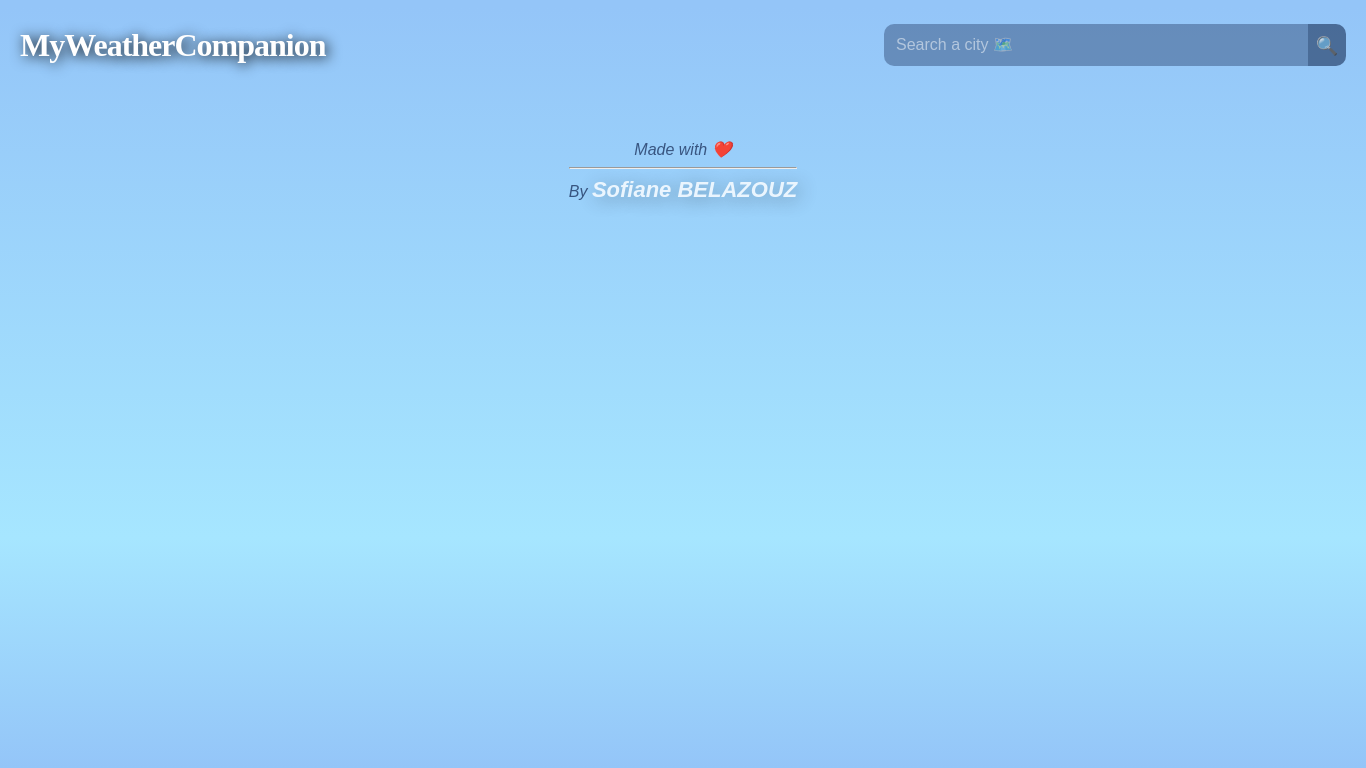
Test: Display Error from App › displays Error component when there is an error
The width and height of the screenshot is (1366, 768).
Type "InvalidCity" into the field with placeholder "Search a city 🗺️" at (1096, 45), box [884,24,1308,66]
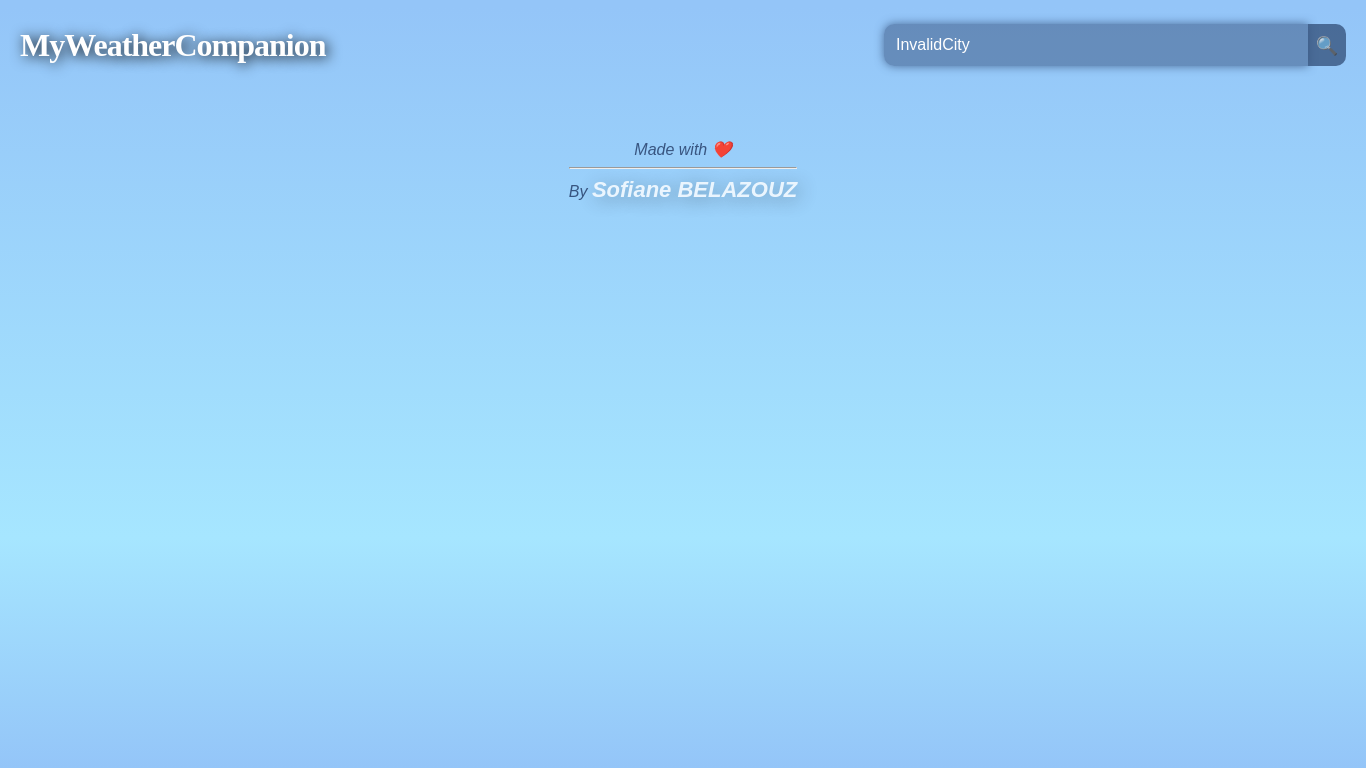
Click the button with test id "search-city-button" at (1327, 45), box [1308,24,1346,66]
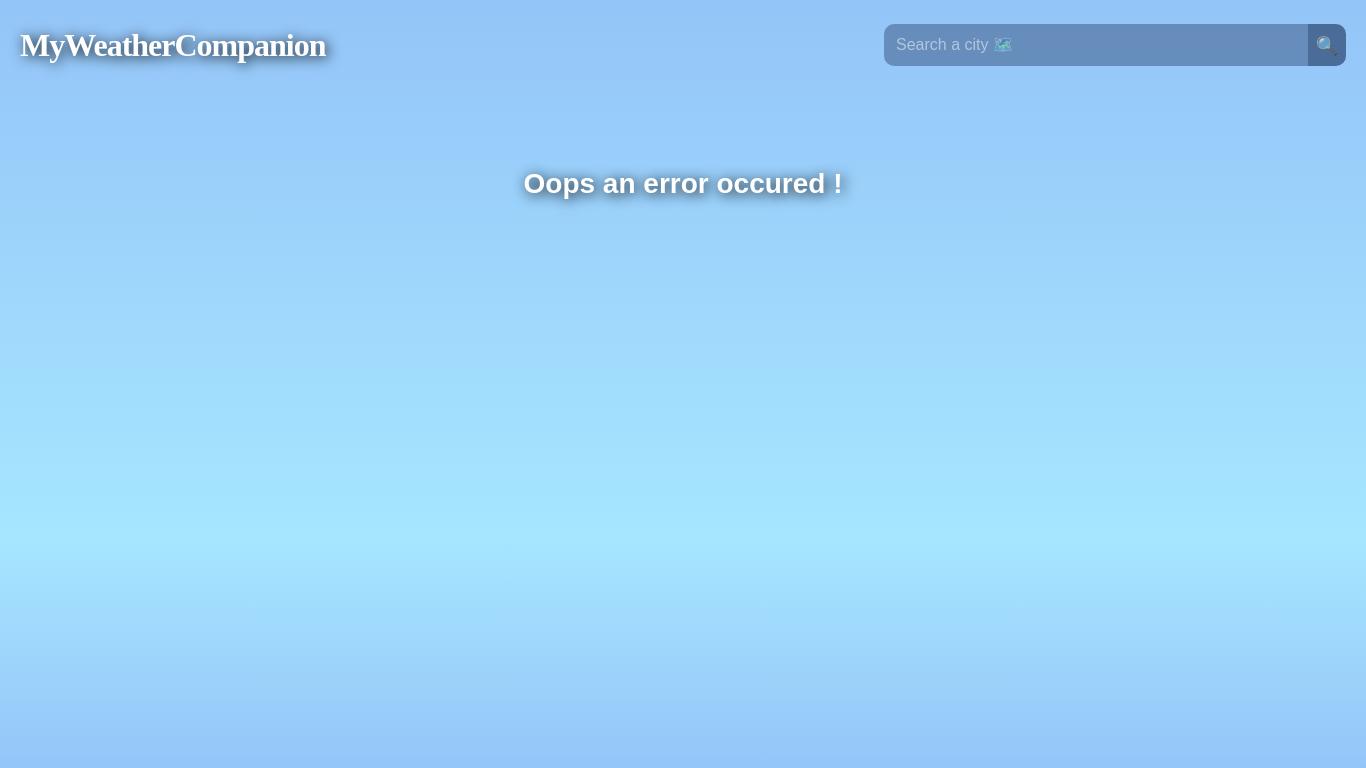
Now the element with test id "error-component" is shown, box [524,168,842,199]
